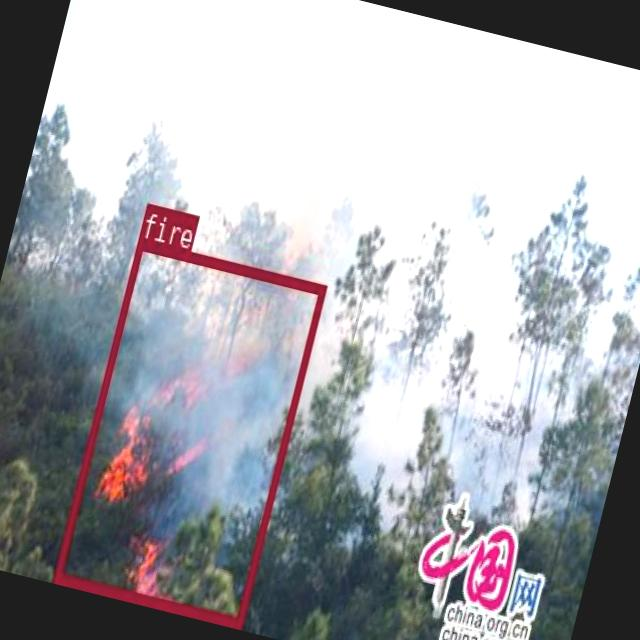fire: (52, 237, 326, 626)
